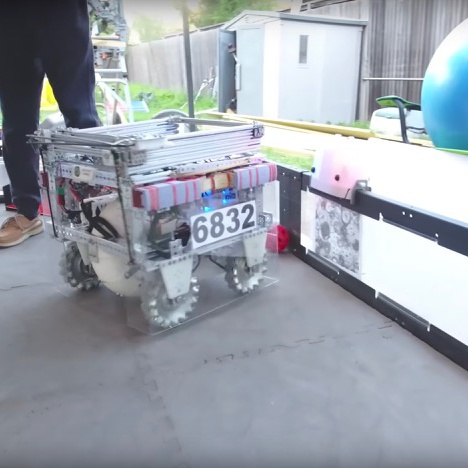ball: (264, 223, 292, 257)
robot: (27, 110, 284, 339)
yogaball: (416, 14, 468, 150)
